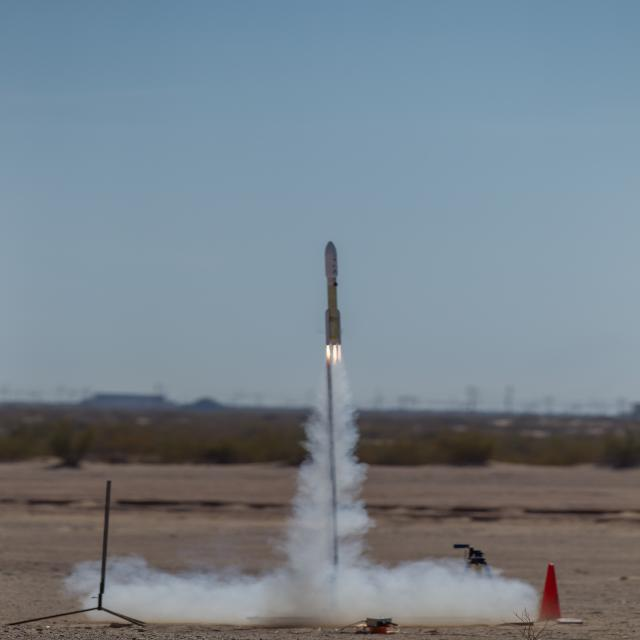Rocket: (324, 241, 342, 346)
